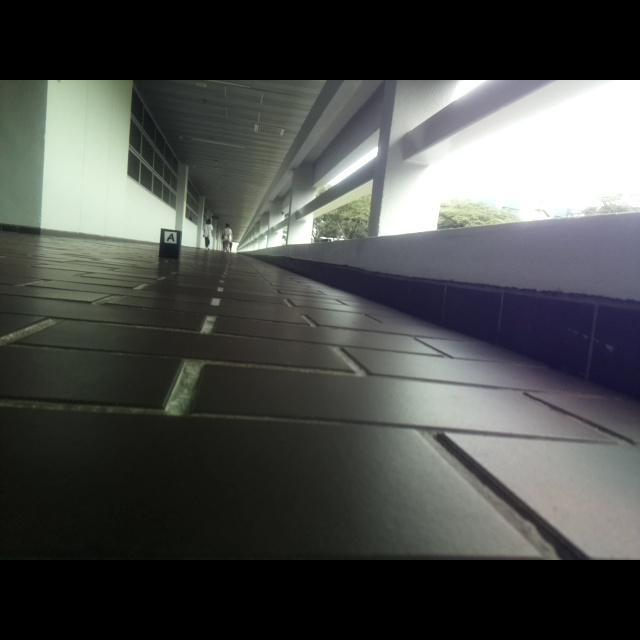A: (166, 232, 176, 243)
